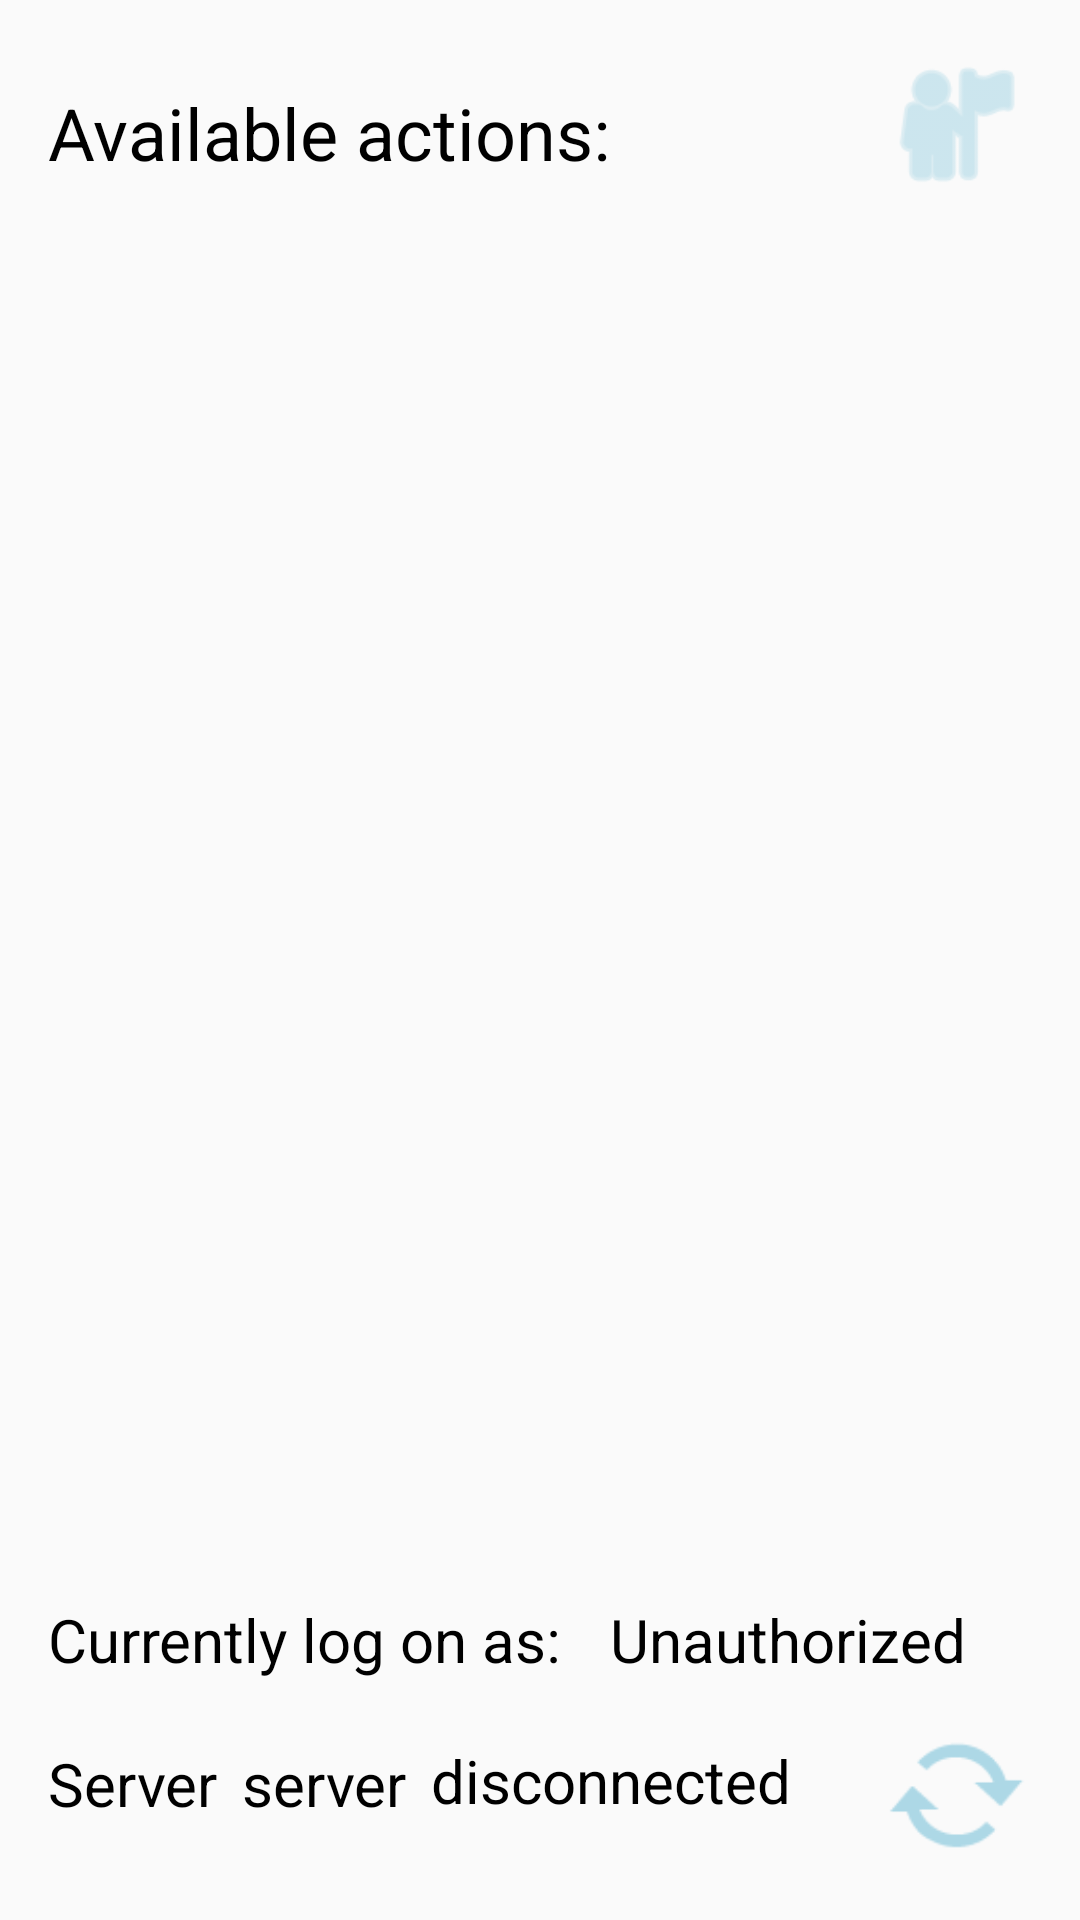

Icon bounding boxes for this 1080px×1920px phone screenshot, format (x1=x1, y1=y1, x2=x2, y2=y2):
sync noanim: (x1=890, y1=1744, x2=1022, y2=1847)
